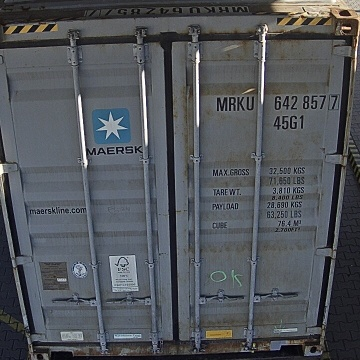serial_id: (216, 94, 339, 110)
